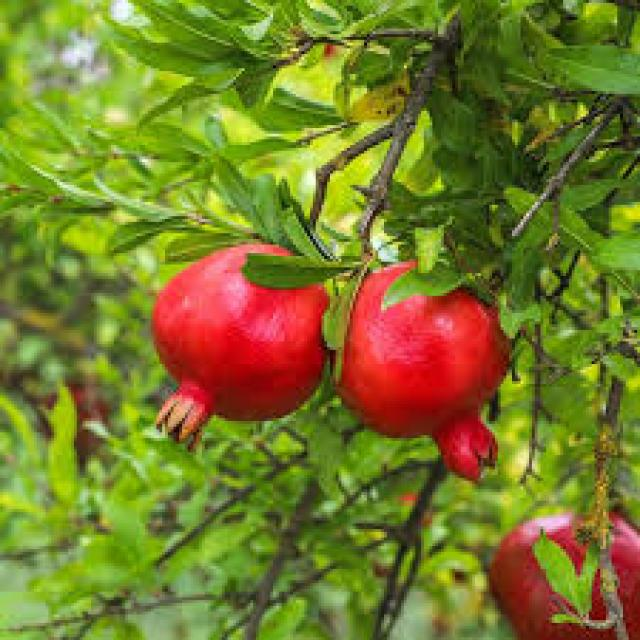Pomegranate: (329, 269, 518, 499), (152, 236, 333, 449)
